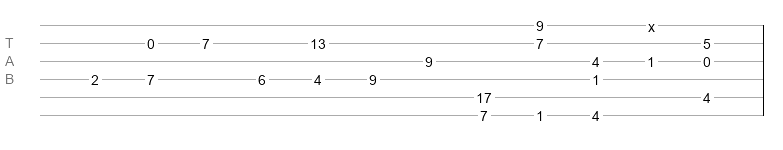0: (147, 36, 155, 46), (703, 54, 711, 64)
1: (536, 108, 544, 118), (592, 72, 600, 82), (647, 54, 655, 64)
13: (310, 36, 326, 46)
17: (476, 90, 492, 100)
2: (91, 72, 99, 82)
4: (314, 72, 322, 82), (592, 54, 600, 64), (592, 108, 600, 118), (703, 90, 711, 100)
5: (703, 36, 711, 46)
6: (258, 72, 266, 82)
7: (147, 72, 155, 82), (202, 36, 210, 46), (480, 108, 488, 118), (536, 36, 544, 46)
9: (369, 72, 377, 82), (425, 54, 433, 64), (536, 18, 544, 28)
x: (648, 19, 655, 27)
